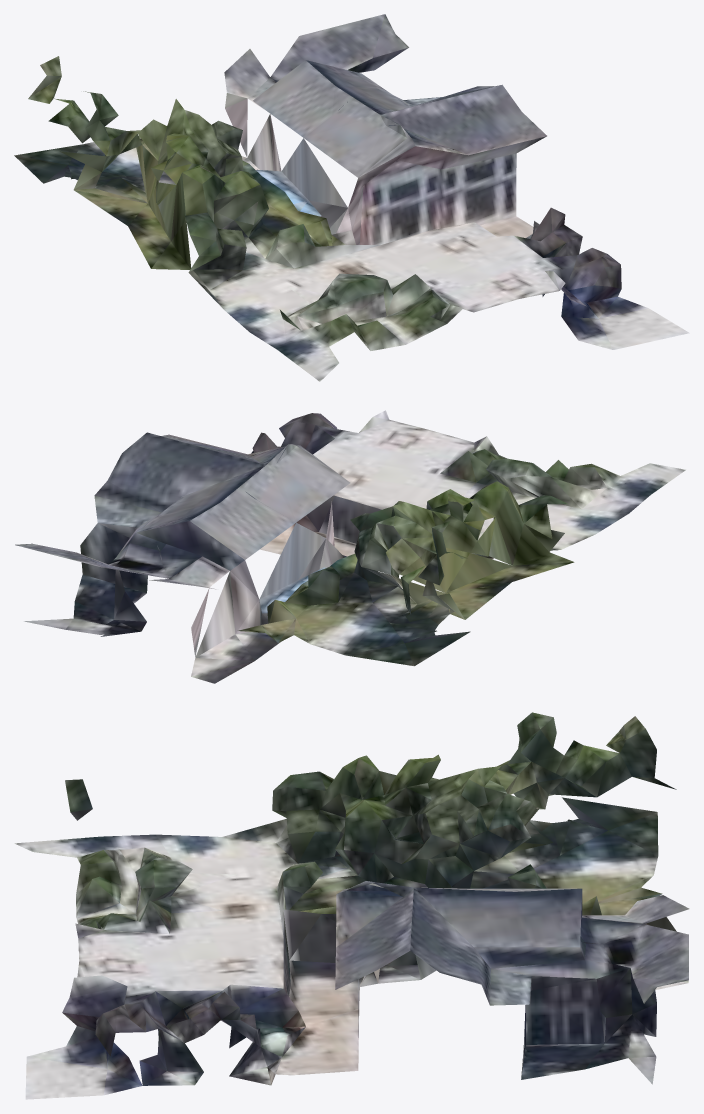
Rendered from Tile_+000_+005_L16_0.glb.
3 views of the same model, one above another, from view 1: azimuth 30°, elevation 25°; view 2: azimuth 150°, elevation 25°; view 3: azimuth 270°, elevation 25° (orthographic). The views are drawn at different scales.
Visible parts, largest first — view 1: rtc; view 2: rtc; view 3: rtc.
Part boxes in pixels (box(x1,y1,x2,y2)): rtc: box(14, 14, 689, 381); rtc: box(15, 410, 685, 683); rtc: box(14, 712, 689, 1099).
Size of the model in its own units: 47.75 by 18.44 by 61.29.
Materials: 1 (1 with a texture image).
